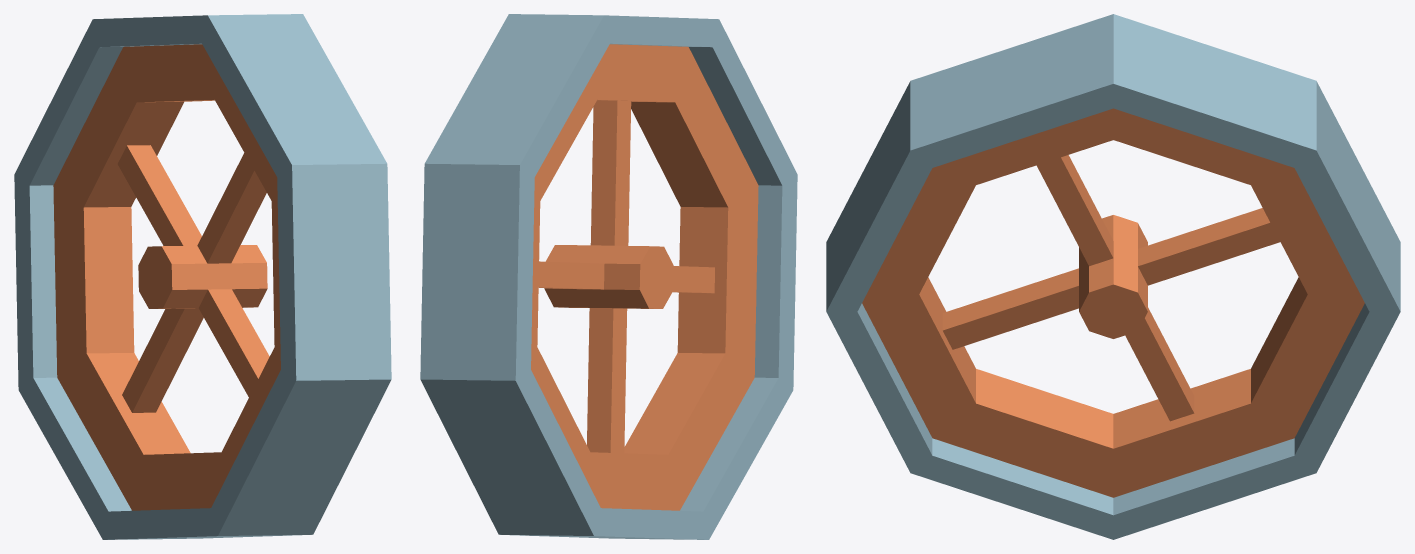
File: wheel.fbx
3 renders of one model, left to right at view 1: azimuth 30°, elevation 25°; view 2: azimuth 150°, elevation 25°; view 3: azimuth 270°, elevation 25°, orthographic.
Parts seen in each view (by area): view 1: wheel; view 2: wheel; view 3: wheel.
Part boxes in pixels (left/top/right/bottom): wheel: left=14, top=14, right=391, bottom=539; wheel: left=420, top=14, right=797, bottom=539; wheel: left=826, top=14, right=1400, bottom=539.
Size of the model in its own units: 2.08 by 5.16 by 5.06.
